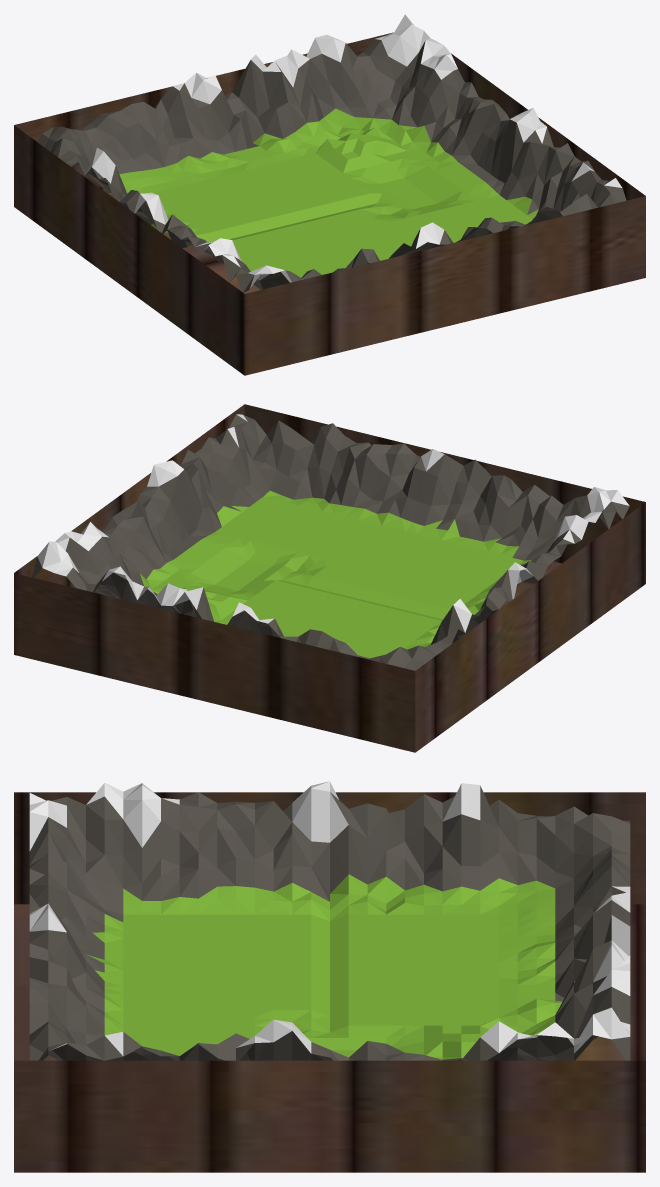
The model's file is world.gltf.
The picture shows the model from 3 angles, top to bottom: view 1: azimuth 30°, elevation 25°; view 2: azimuth 150°, elevation 25°; view 3: azimuth 270°, elevation 25°; orthographic projection. The views are drawn at different scales.
Parts seen in each view (by area): view 1: world, worldbox; view 2: world, worldbox; view 3: world, worldbox.
Part boxes in pixels (x1,y1,x2,y2): world: (37,14,626,292); worldbox: (14,32,645,375); world: (32,414,629,670); worldbox: (14,404,645,752); world: (29,781,630,1060); worldbox: (14,792,645,1172).
Bounding box in the file's own units: 3.17 × 0.8259 × 3.15.
4 materials, 1 textured.
